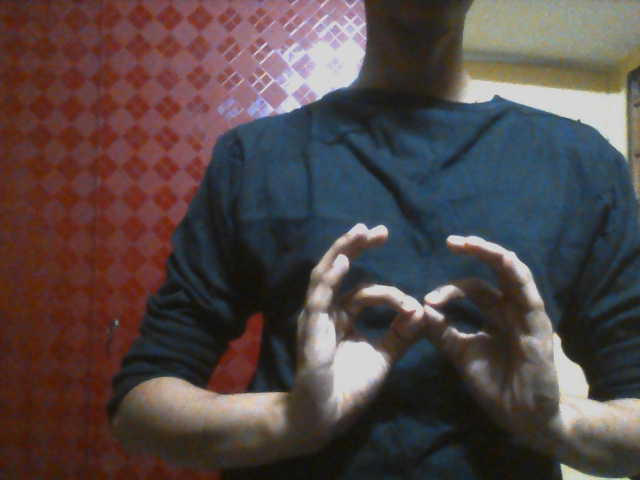B: (290, 221, 565, 455)
